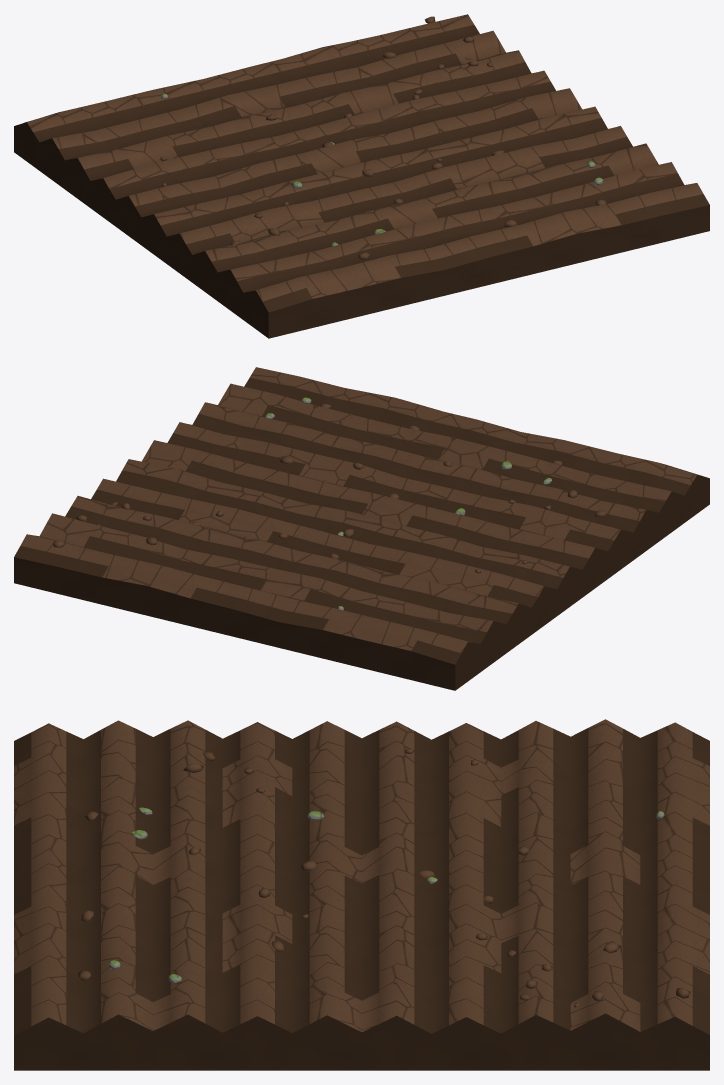
File: field_furrows.glb
The picture shows the model from 3 angles, top to bottom: view 1: azimuth 30°, elevation 25°; view 2: azimuth 150°, elevation 25°; view 3: azimuth 270°, elevation 25°; orthographic projection. The views are drawn at different scales.
Visible parts, largest first — view 1: field_furrows; view 2: field_furrows; view 3: field_furrows.
Part boxes in pixels (box(x1,y1,x2,y2)): field_furrows: box(14, 14, 709, 338); field_furrows: box(14, 367, 709, 690); field_furrows: box(14, 719, 709, 1070).
Size of the model in its own units: 8 by 0.7782 by 8.
Materials: 4 (4 with a texture image).
